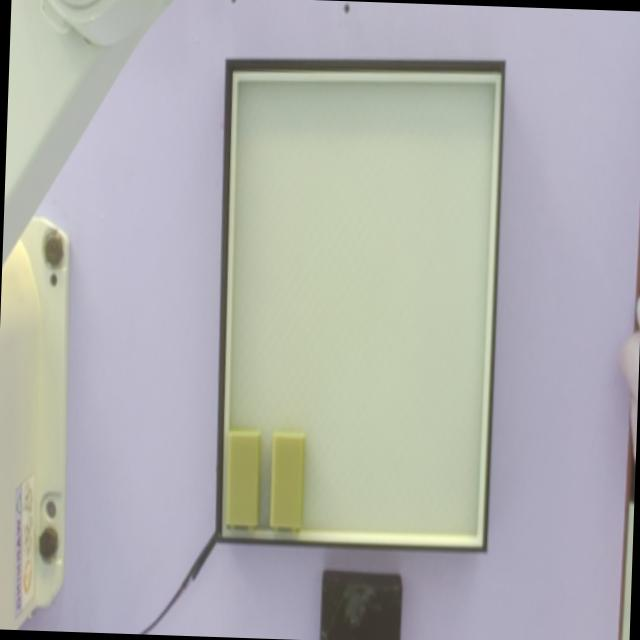bateria: (271, 431, 305, 532), (227, 430, 260, 531)
mesa: (214, 58, 505, 553)
